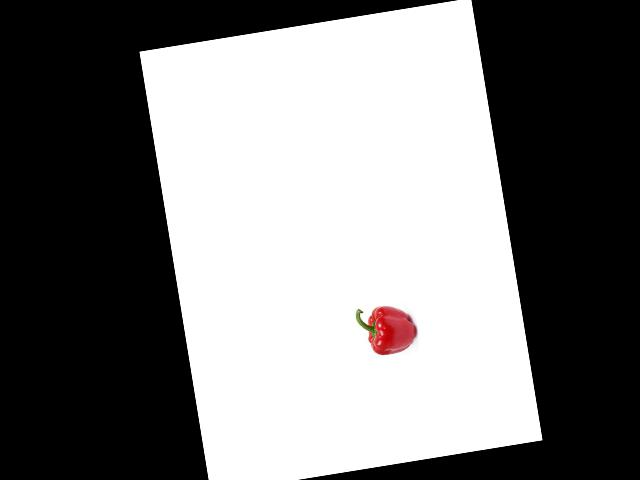bell_pepper: (353, 297, 420, 362)
